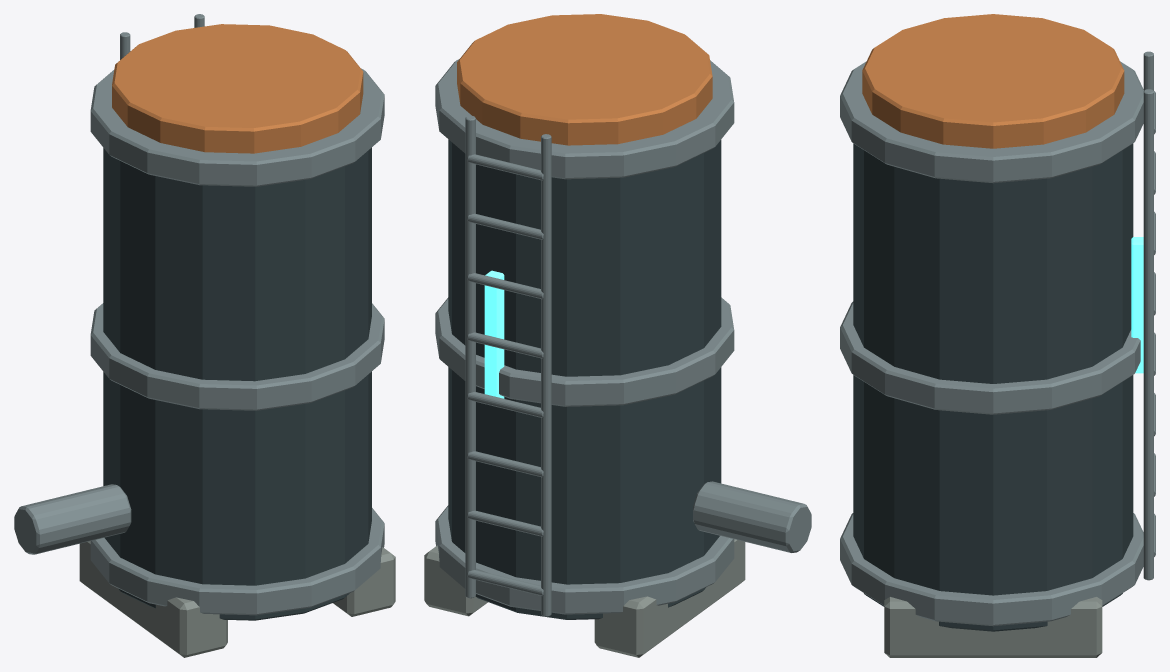
Rendered from reservoir_tank.glb.
3 renders of one model, left to right at view 1: azimuth 30°, elevation 25°; view 2: azimuth 150°, elevation 25°; view 3: azimuth 270°, elevation 25°, orthographic. The views are drawn at different scales.
Visible parts, largest first — view 1: reservoir_tank_Surface; view 2: reservoir_tank_Surface; view 3: reservoir_tank_Surface.
Boxes of the visible parts, bbox=[...] form: reservoir_tank_Surface: bbox=[14, 14, 395, 657]; reservoir_tank_Surface: bbox=[424, 14, 811, 657]; reservoir_tank_Surface: bbox=[840, 14, 1155, 657].
Bounding box in the file's own units: 1.83 × 2.67 × 1.42.
Materials: 1 (1 with a texture image).
